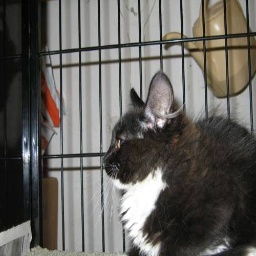cat: (104, 78, 256, 256)
